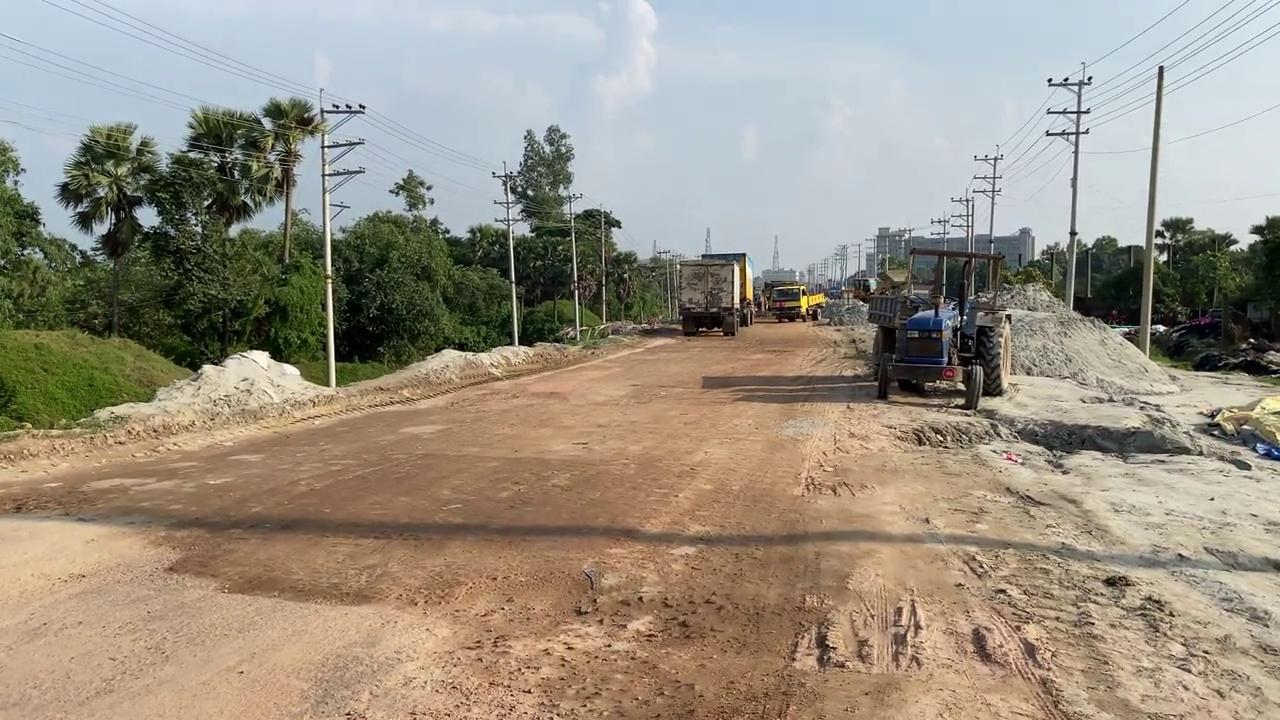Pole: (1137, 64, 1165, 358), (318, 87, 337, 388), (567, 192, 581, 341)
Traffic-sign: (159, 103, 279, 362), (53, 119, 163, 337), (257, 95, 328, 264)
Tree: (865, 245, 1013, 410), (676, 252, 754, 337), (763, 280, 826, 322)
